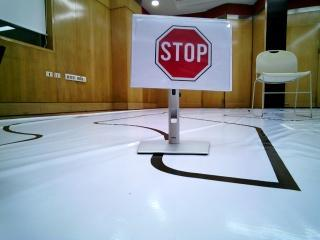stop: (141, 19, 220, 92)
